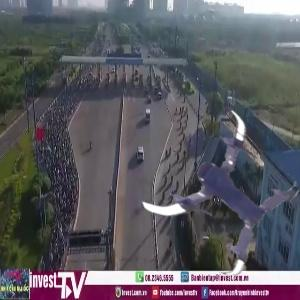drone: (144, 111, 297, 264)
